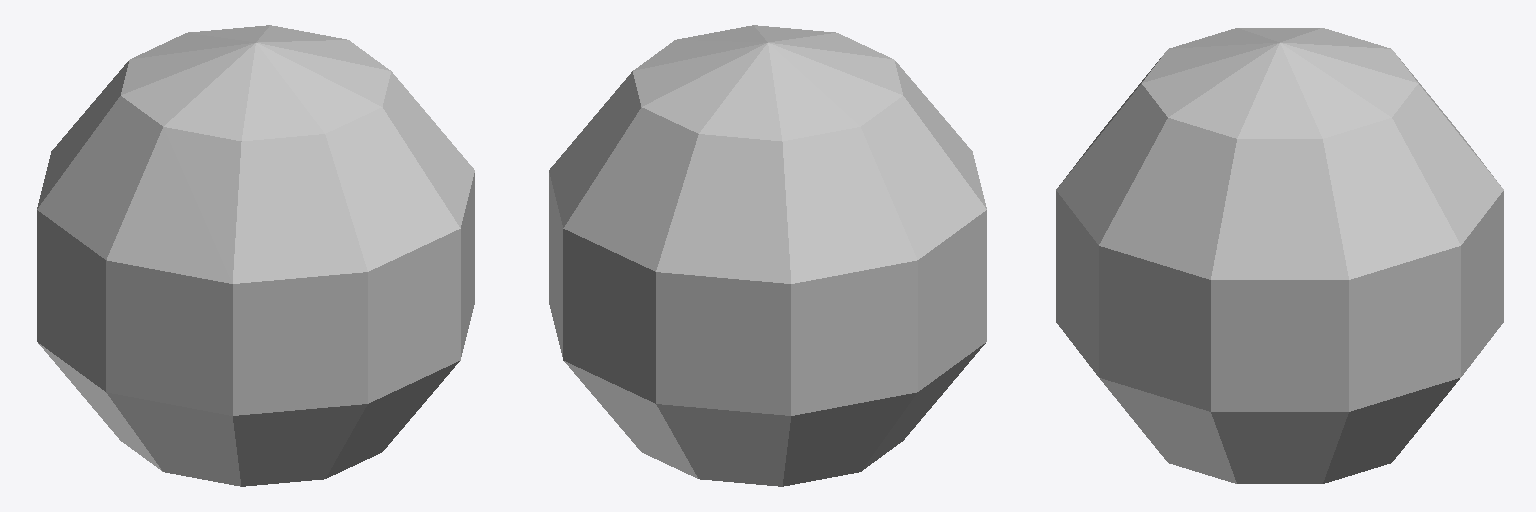
File: Bullet.obj
3 views of the same model, side by side, from view 1: azimuth 30°, elevation 25°; view 2: azimuth 150°, elevation 25°; view 3: azimuth 270°, elevation 25° (orthographic).
Parts seen in each view (by area): view 1: Sphere001; view 2: Sphere001; view 3: Sphere001.
Boxes of the visible parts, x1=… form: Sphere001: x1=37, y1=25, x2=474, y2=486; Sphere001: x1=549, y1=25, x2=986, y2=486; Sphere001: x1=1056, y1=28, x2=1503, y2=483.
Size of the model in its own units: 2.15 by 2.38 by 2.27.